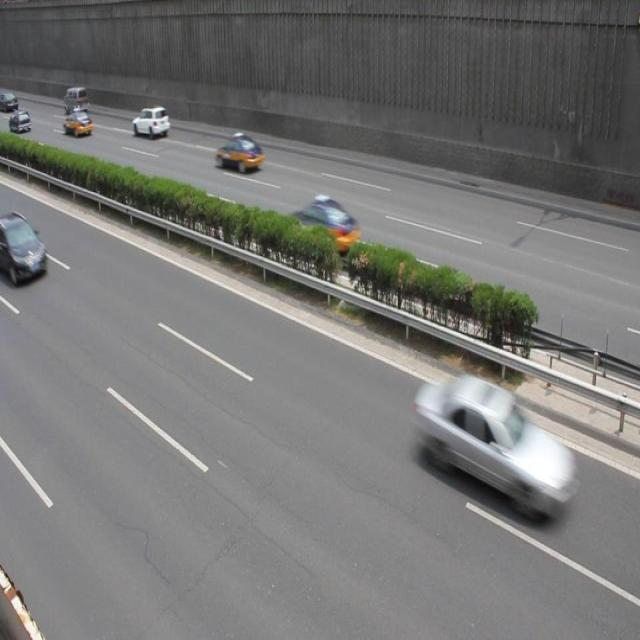car: (415, 374, 566, 518), (282, 193, 361, 261), (1, 210, 48, 286), (215, 130, 263, 174), (131, 105, 169, 136), (63, 108, 92, 137)
truck: (64, 85, 88, 113)
